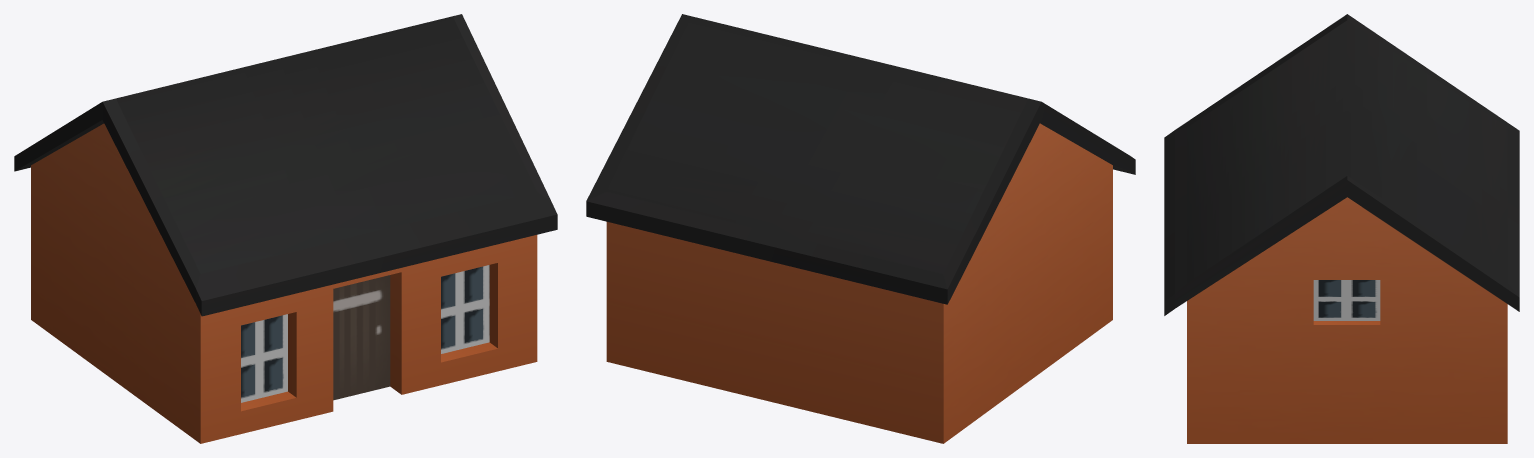
The model's file is House_simple.FBX.
3 views of the same model, side by side, from view 1: azimuth 30°, elevation 25°; view 2: azimuth 150°, elevation 25°; view 3: azimuth 270°, elevation 25° (orthographic). The views are drawn at different scales.
Visible parts, largest first — view 1: Box006; view 2: Box006; view 3: Box006.
Boxes of the visible parts, x1,y1,x2,y2 form: Box006: (14, 14, 557, 443); Box006: (586, 14, 1135, 443); Box006: (1164, 14, 1519, 443).
Bounding box in the file's own units: 4.16 × 3.09 × 3.71.
